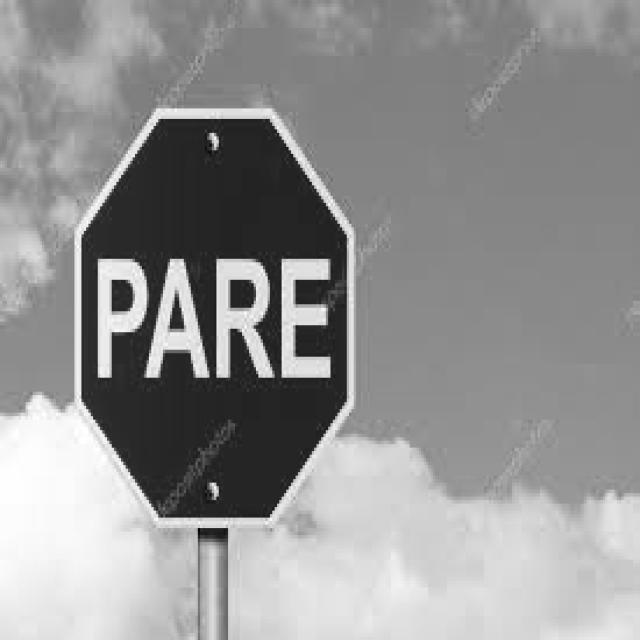Stop-sign: (62, 86, 370, 545)
